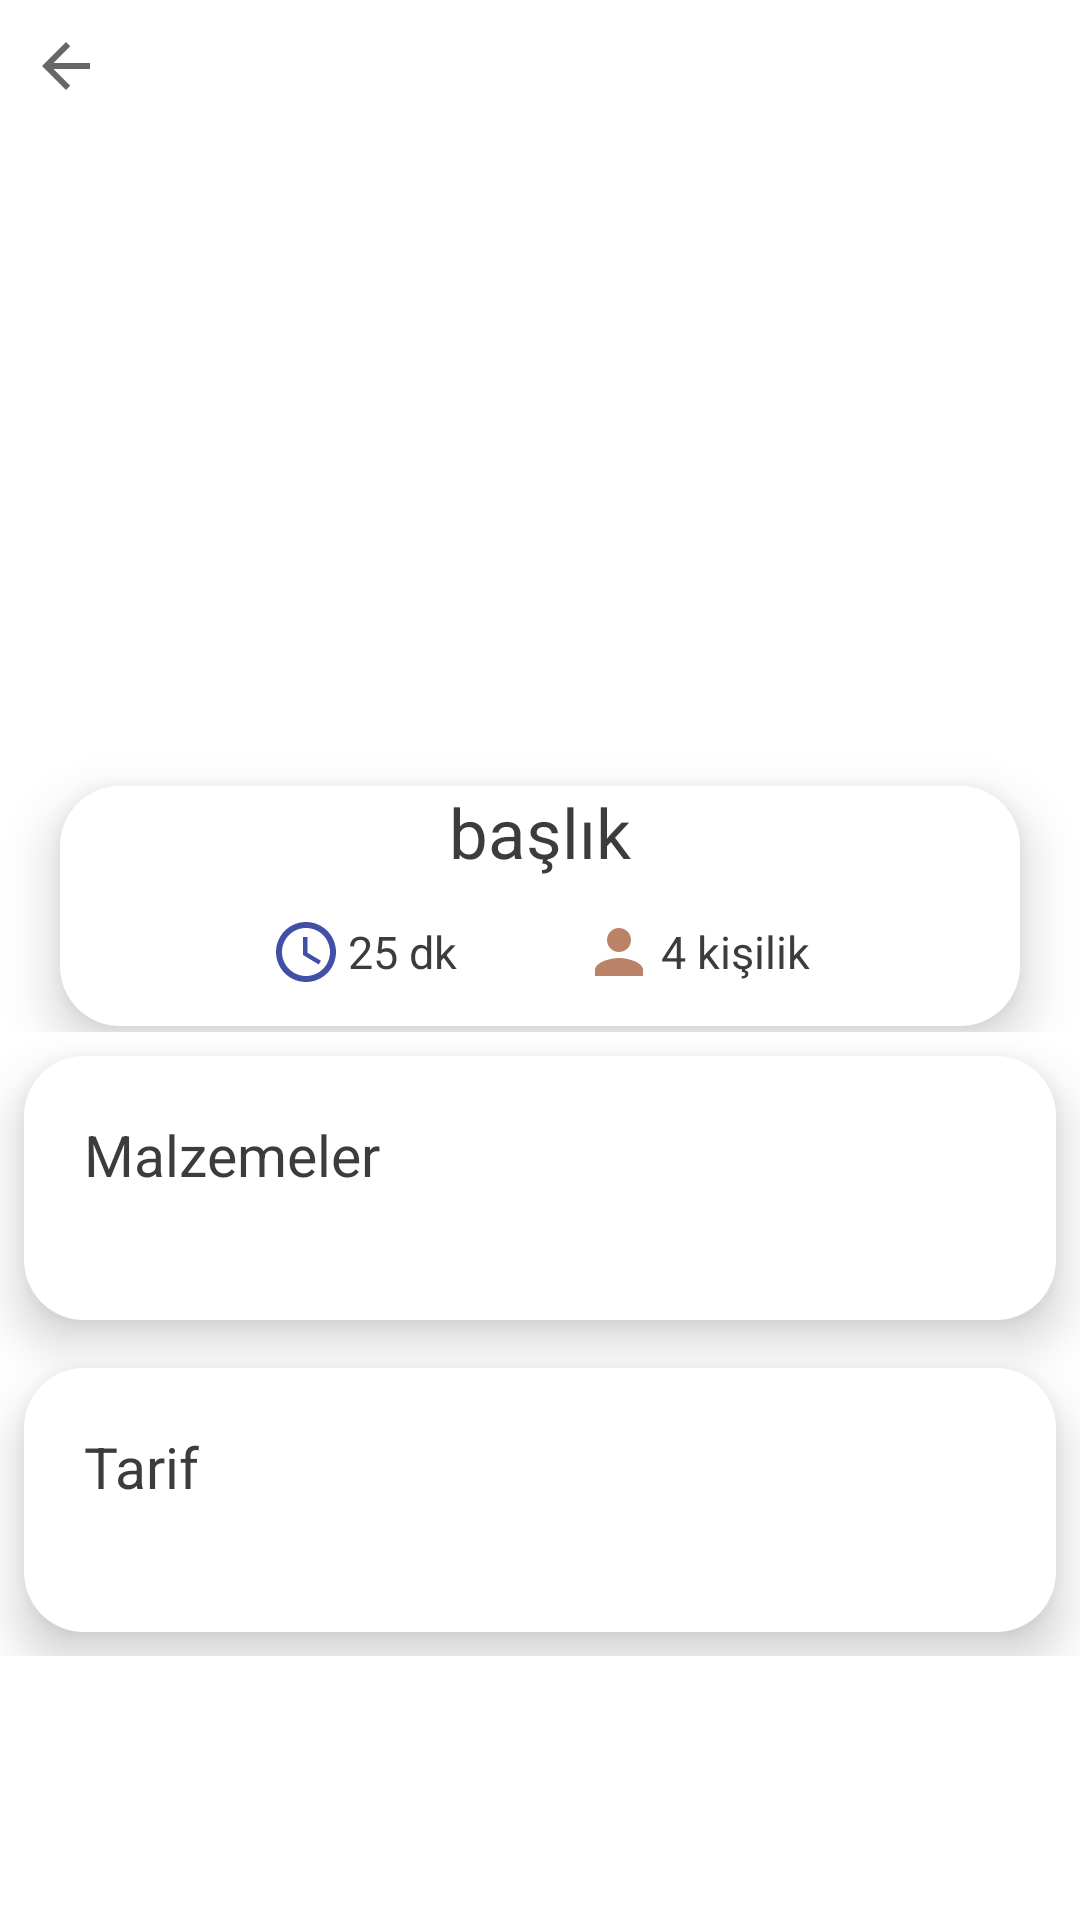

Icons on this 1080*1920 Android screen, each with the point to tap as [x,y]:
back: [66,66]
person: [619,952]
time: [306,952]
